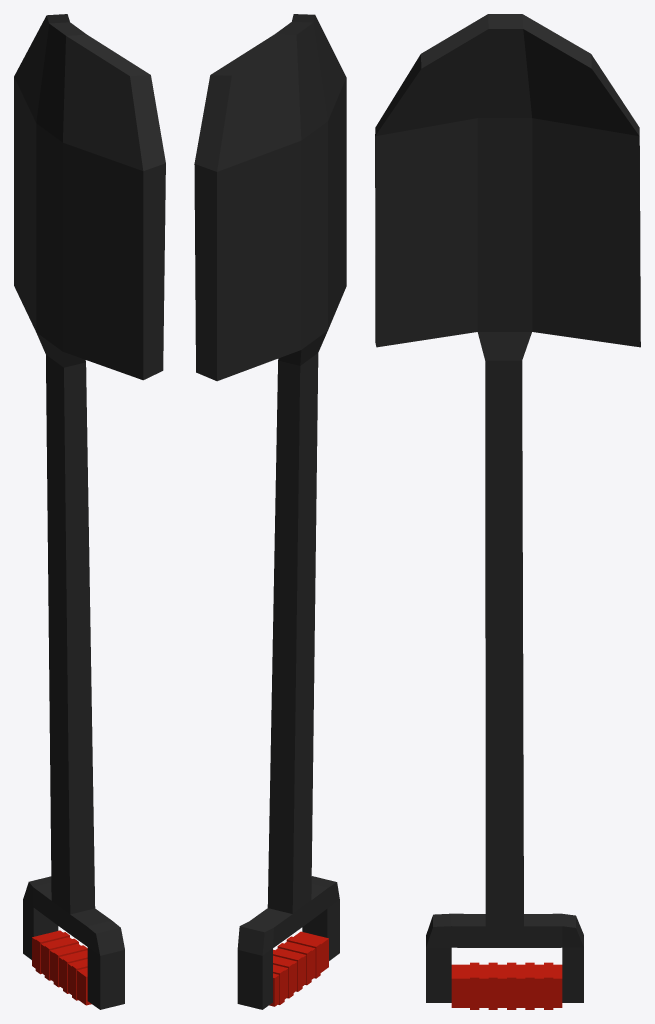
File: Shovel.obj
3 renders of one model, left to right at view 1: azimuth 30°, elevation 25°; view 2: azimuth 150°, elevation 25°; view 3: azimuth 270°, elevation 25°, orthographic. The views are drawn at different scales.
Parts seen in each view (by area): view 1: Shovel; view 2: Shovel; view 3: Shovel.
Part boxes in pixels (x1,y1,x2,y2): Shovel: (14,14,165,1009); Shovel: (194,14,346,1009); Shovel: (375,14,640,1009).
Bounding box in the file's own units: 0.8832 × 13.22 × 3.25.
